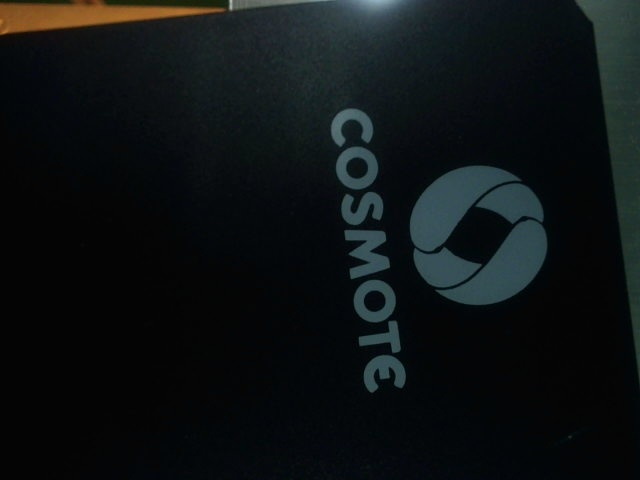AU_COSMOTE: (314, 99, 561, 391)
